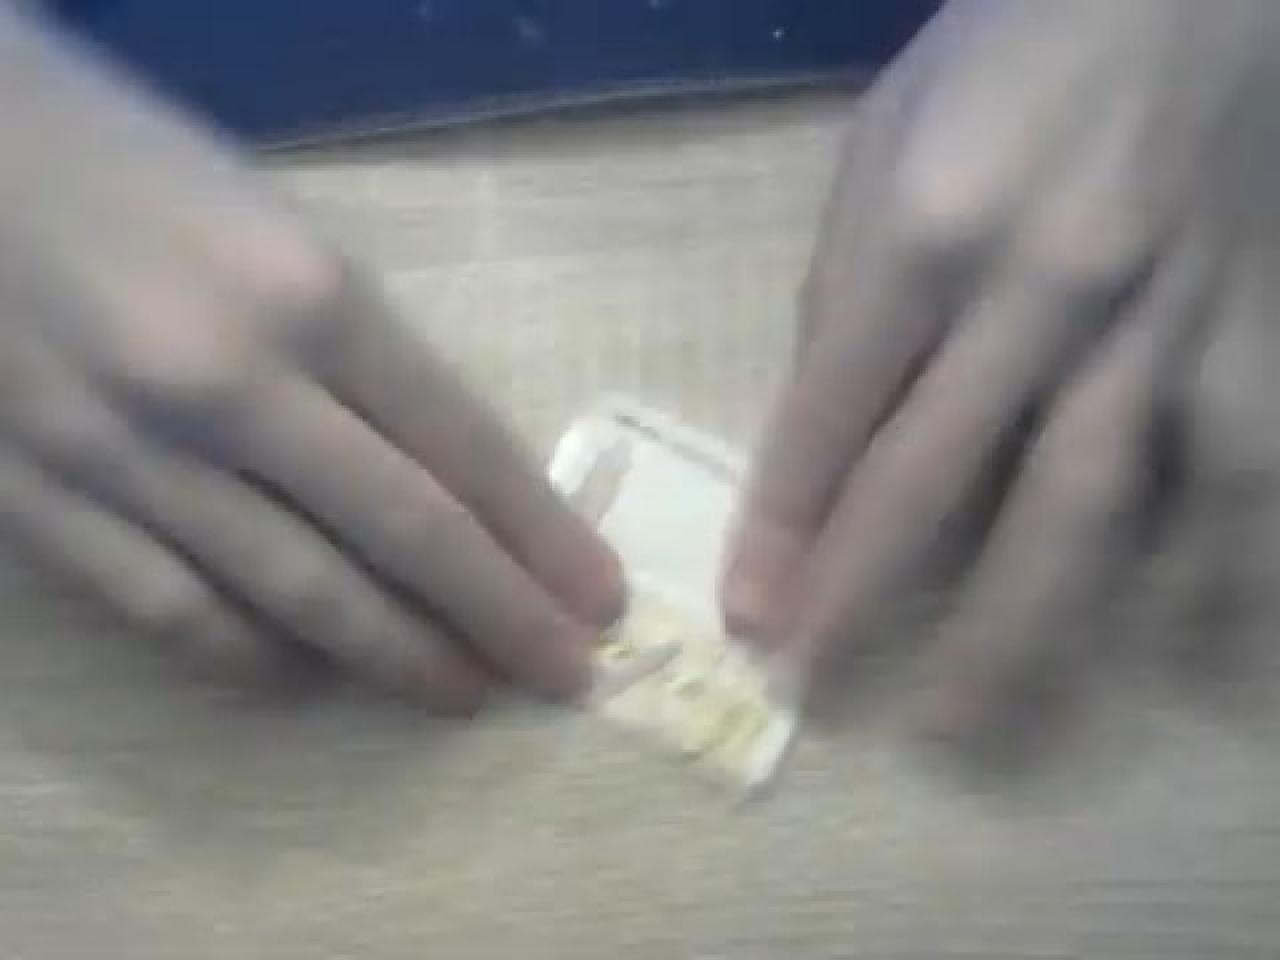10leva: (549, 397, 797, 792)
